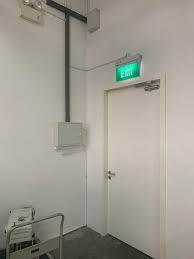exit: (104, 78, 161, 258)
lit_exit_sign: (115, 59, 139, 81)
